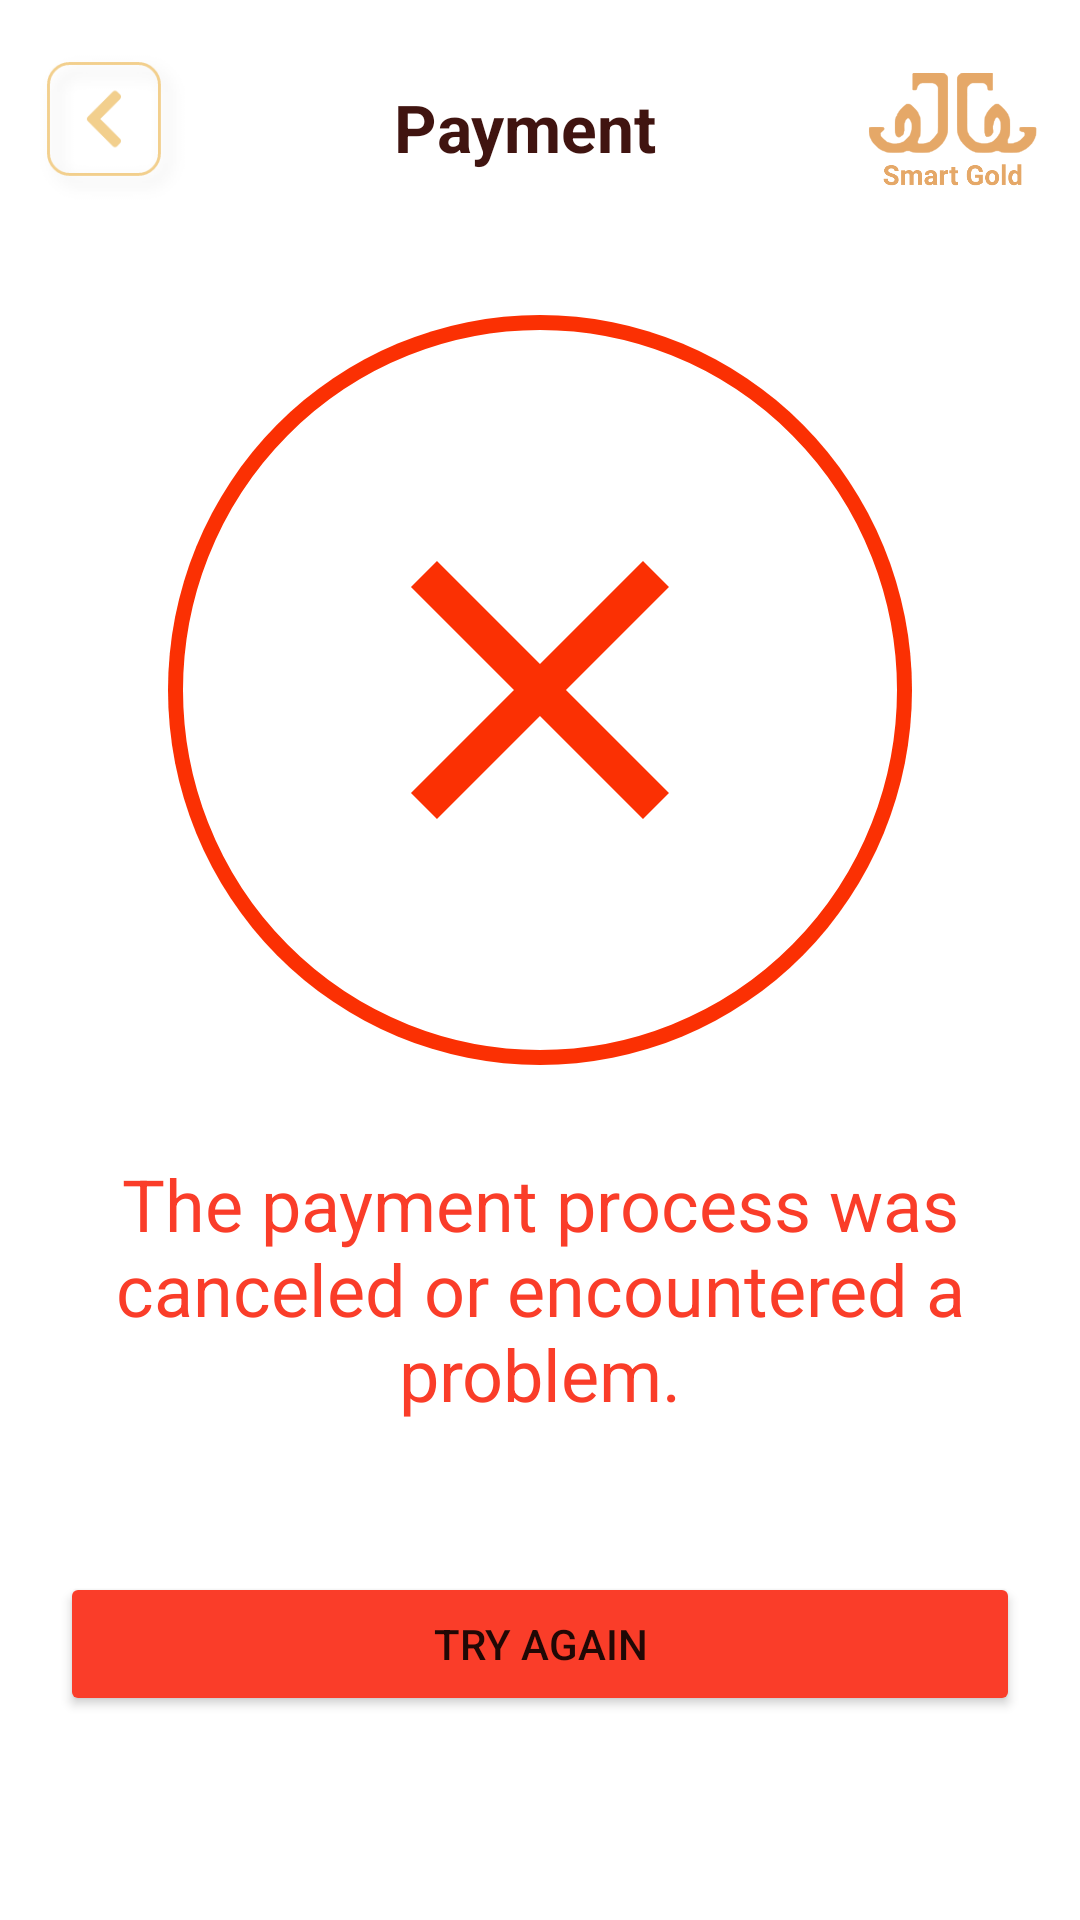

Icons on this 1080w x 1920h Android screen, each with the point to tap as (x,y):
backbtn: (104,119)
